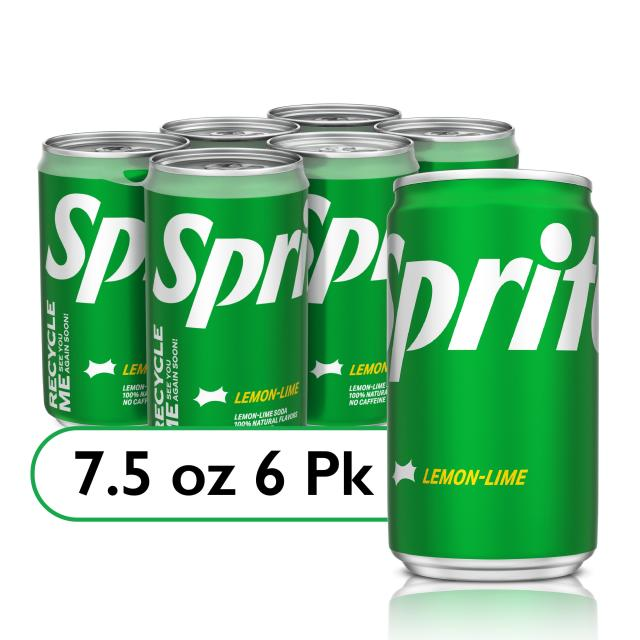sprite: (382, 176, 621, 640), (139, 147, 355, 480), (27, 128, 214, 423), (278, 140, 421, 438), (162, 111, 267, 180), (263, 102, 399, 152)
